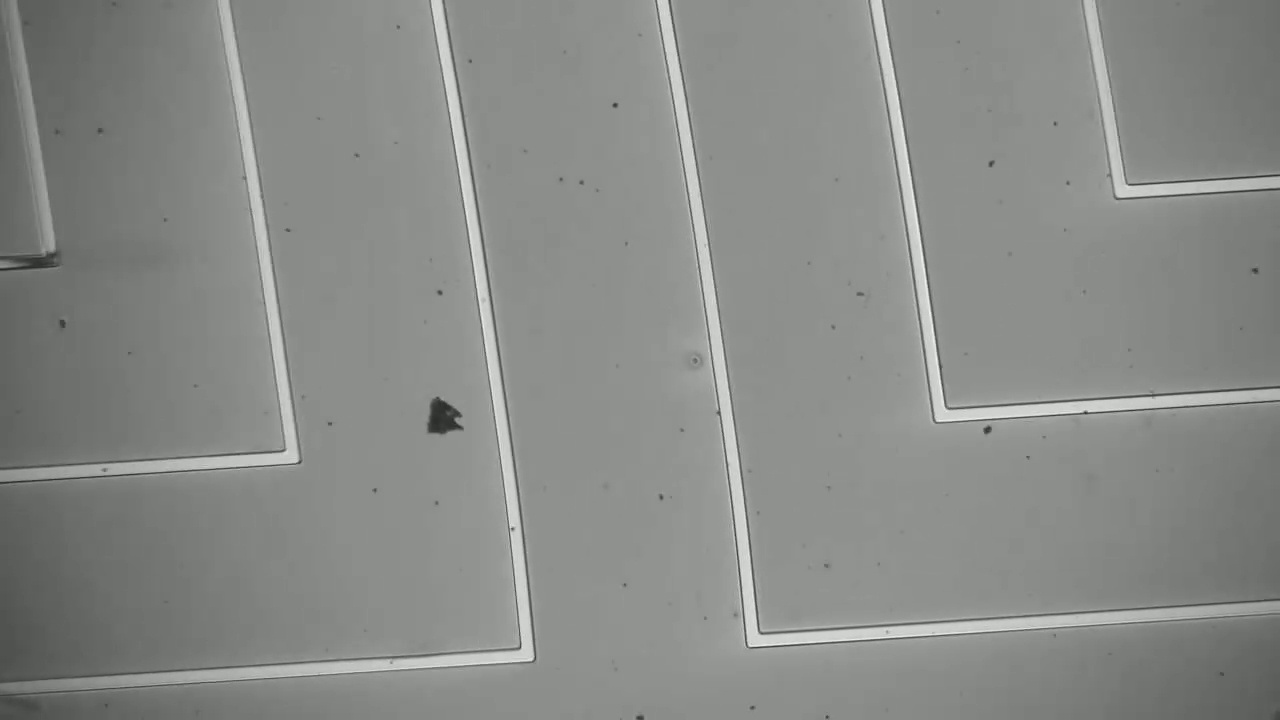gray_line: (1, 241, 84, 285)
